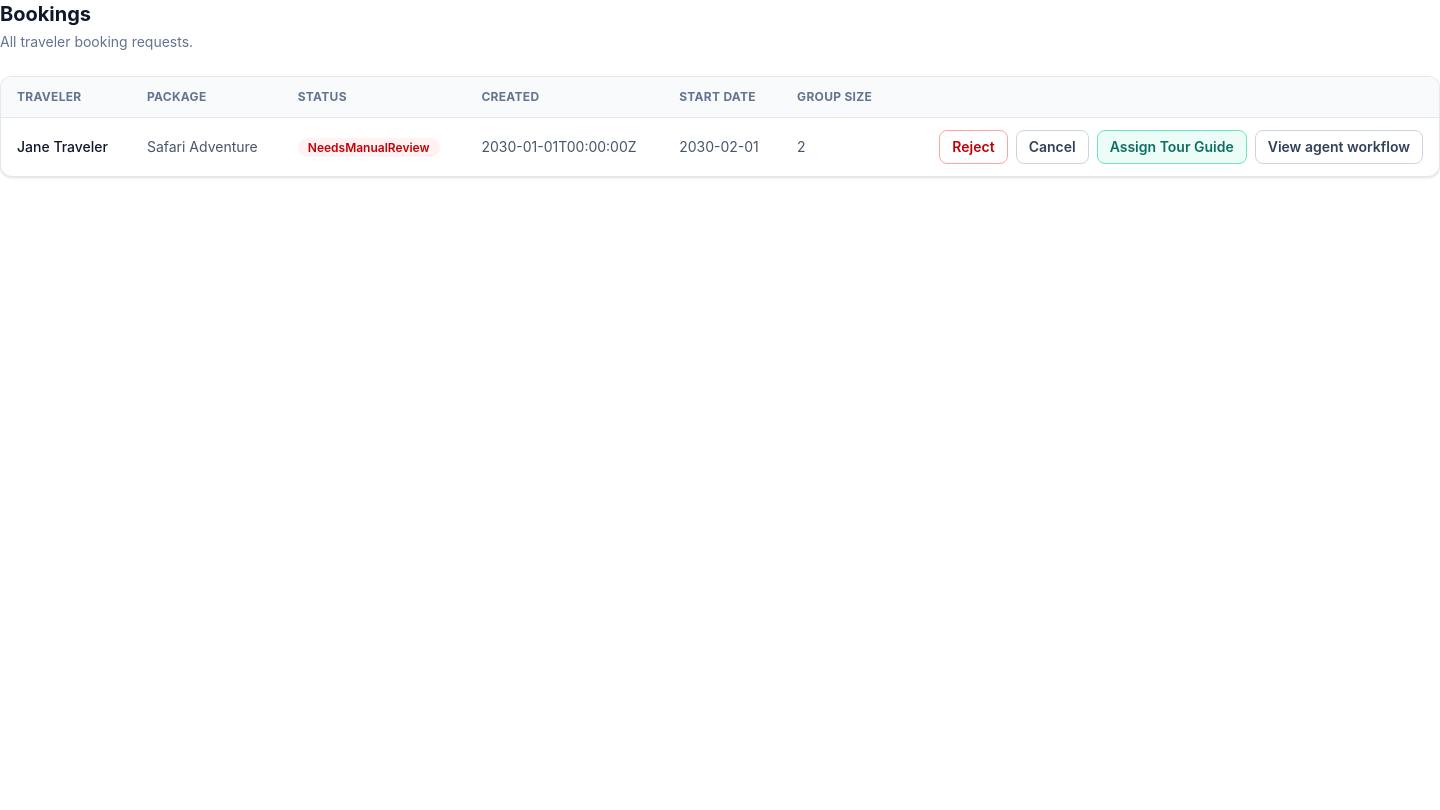
Scenario: OpsBookingsPage › opens assignment modal, loads available guides, and shows guide info
Check: the text "NeedsManualReview" is shown, box [298, 138, 440, 157]
Step 1. Click the button "Assign Tour Guide" → x=1172, y=147, box [1097, 130, 1247, 164]
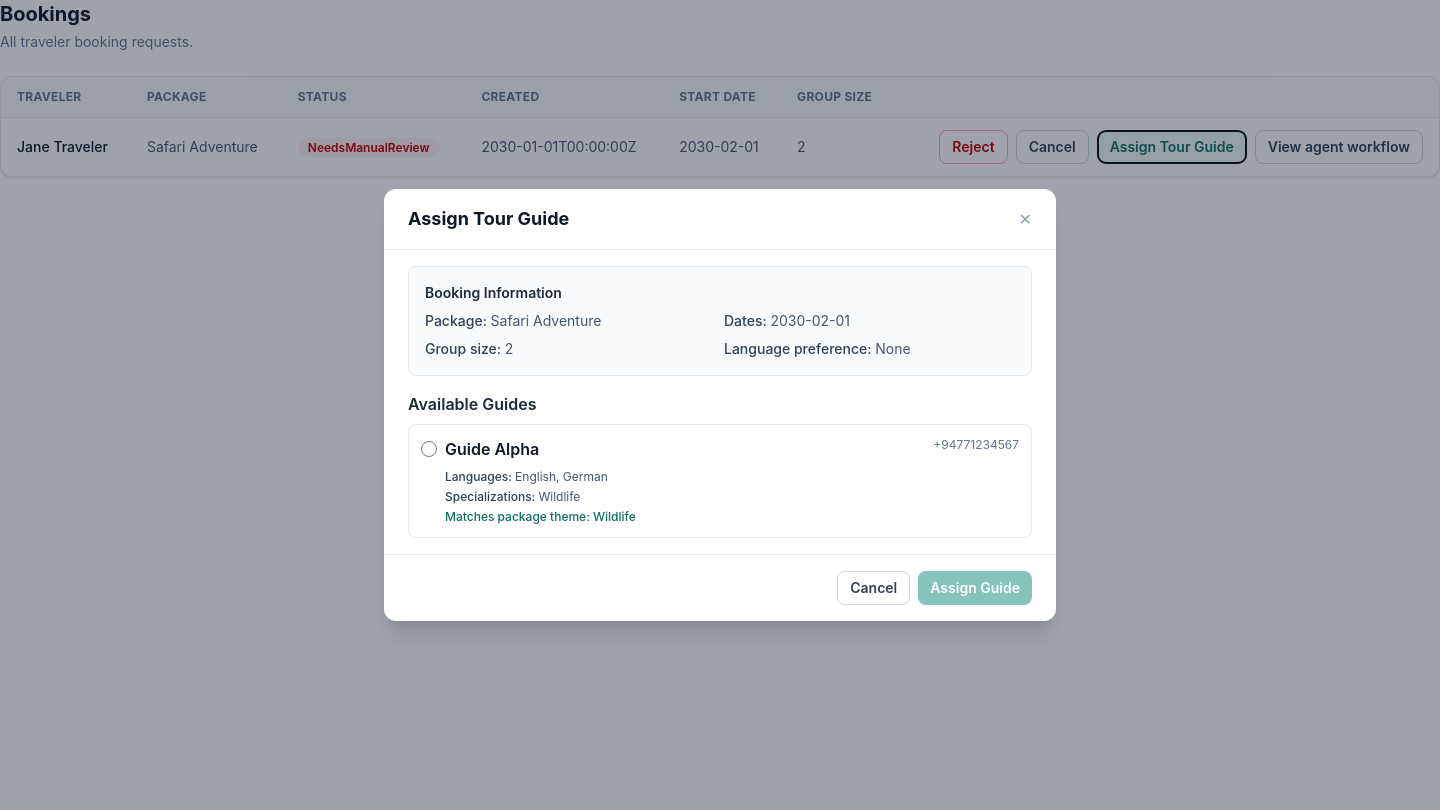
Check: the heading "Assign Tour Guide" is shown, box [408, 205, 569, 233]
Check: the text "Guide Alpha" is shown, box [445, 437, 539, 461]
Check: the text "Matches package theme: Wildlife" is shown, box [445, 509, 636, 524]
